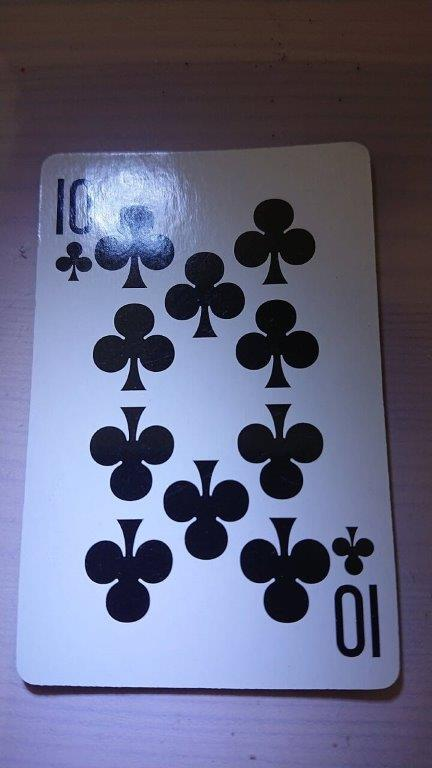10C: (14, 140, 403, 693)
